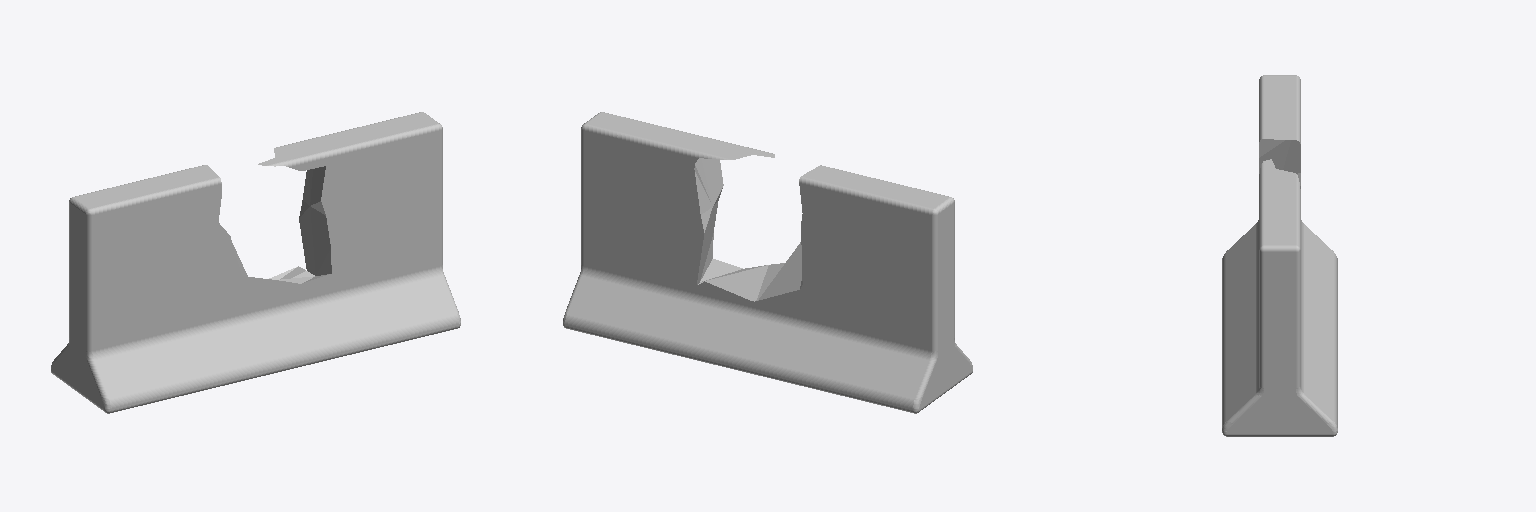
Rendered from Pregrados2.obj.
3 views of the same model, side by side, from view 1: azimuth 30°, elevation 25°; view 2: azimuth 150°, elevation 25°; view 3: azimuth 270°, elevation 25° (orthographic).
Visible parts, largest first — view 1: Cube.001; view 2: Cube.001; view 3: Cube.001.
Boxes of the visible parts, x1,y1,x2,y2 form: Cube.001: [51, 112, 460, 413]; Cube.001: [563, 112, 972, 413]; Cube.001: [1222, 75, 1337, 436].
Bounding box in the file's own units: 6.25 × 3.2 × 1.75.